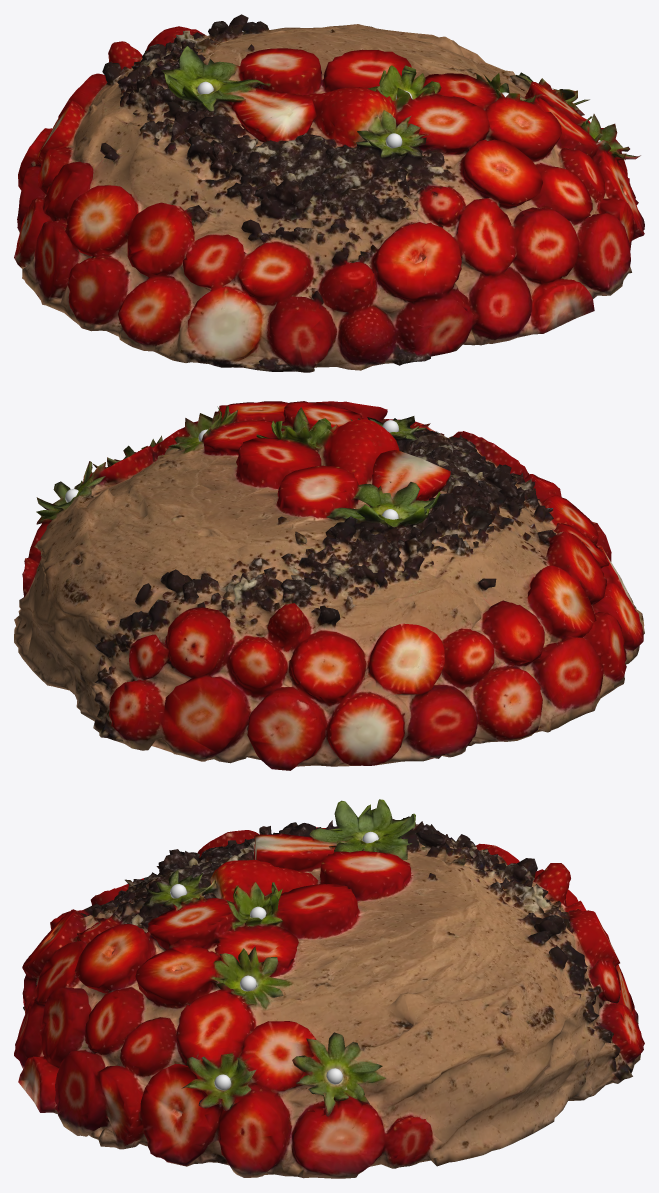
Rendered from strawberry_chocolate_cake.glb.
The picture shows the model from 3 angles, top to bottom: view 1: azimuth 30°, elevation 25°; view 2: azimuth 150°, elevation 25°; view 3: azimuth 270°, elevation 25°; orthographic projection. The views are drawn at different scales.
Visible parts, largest first — view 1: strawberry_chocolate_cake; view 2: strawberry_chocolate_cake; view 3: strawberry_chocolate_cake.
Part boxes in pixels (x1,y1,x2,y2): strawberry_chocolate_cake: (14, 14, 644, 372); strawberry_chocolate_cake: (14, 401, 644, 770); strawberry_chocolate_cake: (14, 799, 644, 1178).
Bounding box in the file's own units: 0.2443 × 0.0792 × 0.2403.
1 material, 1 textured.
